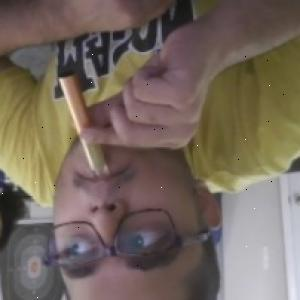Golden-E-Ciggirate: (56, 69, 108, 180)
